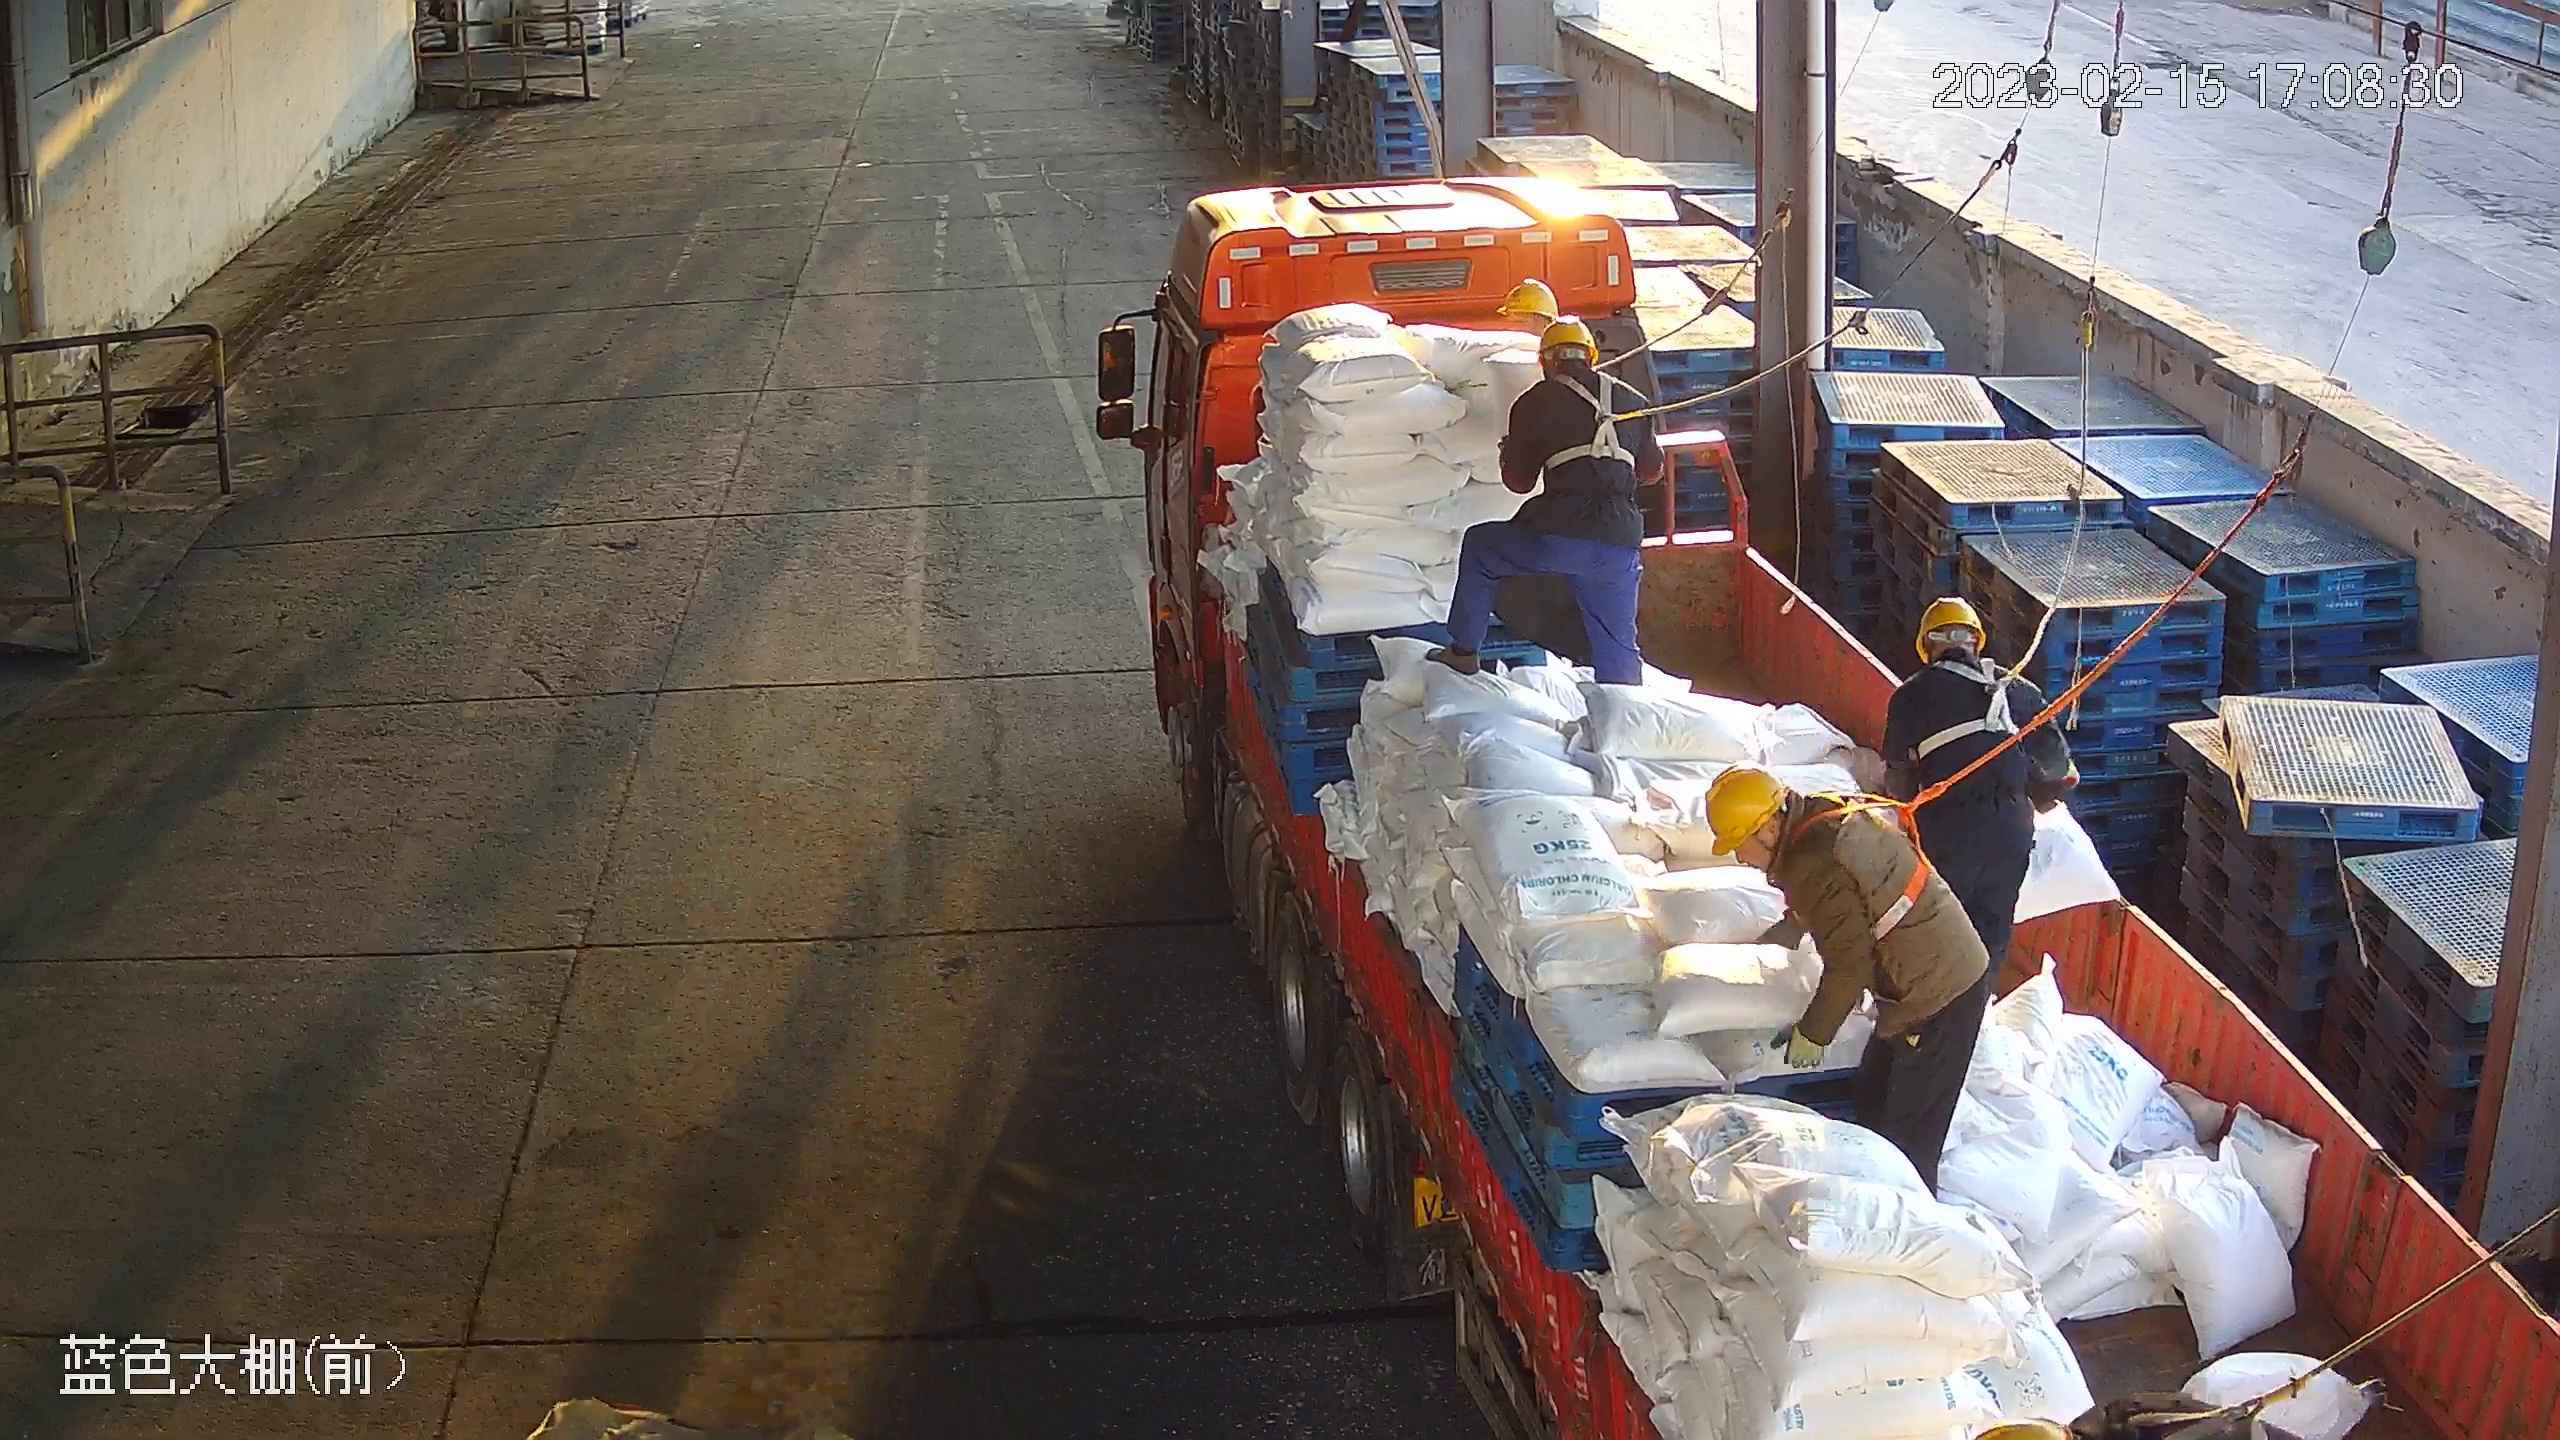belt: (1796, 790, 1942, 940), (1914, 653, 2033, 753), (1545, 377, 1638, 468)
head: (1892, 603, 2055, 740), (1709, 768, 1877, 901), (1512, 310, 1662, 431)
helmet: (1703, 771, 1794, 845), (1907, 586, 1994, 653), (1485, 275, 1570, 323), (1542, 316, 1599, 360)
people: (1694, 768, 1996, 1203), (1862, 588, 2077, 1044), (1436, 308, 1651, 690)
truck: (1107, 160, 2560, 1440)
